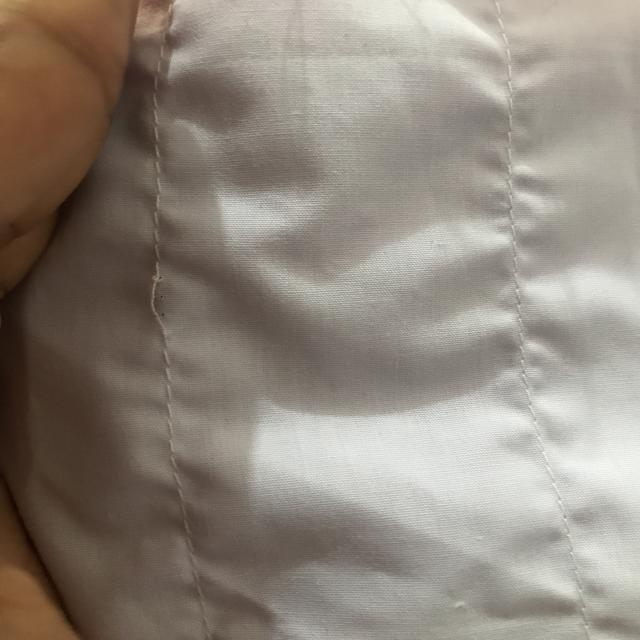good: (492, 125, 536, 332), (161, 388, 192, 519), (146, 157, 172, 234)
skip: (142, 262, 188, 346)
